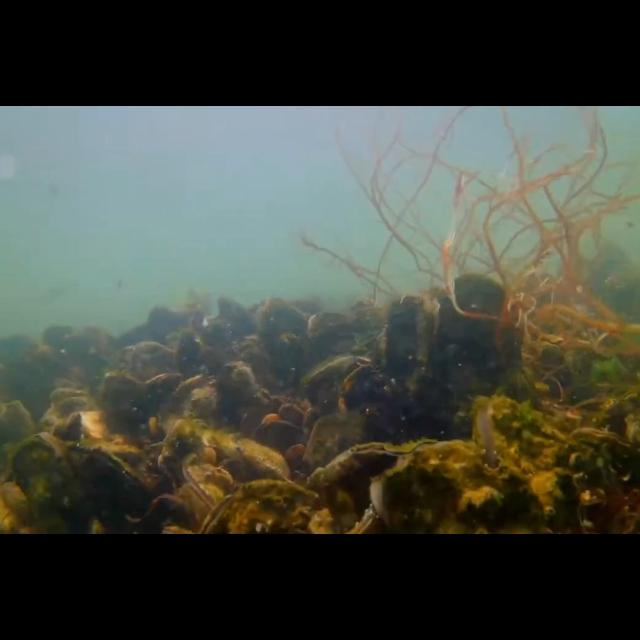Oyster-Closed: (370, 441, 548, 535), (435, 273, 523, 402), (554, 428, 640, 534), (72, 445, 158, 535), (10, 432, 80, 534), (383, 294, 441, 401), (302, 412, 368, 480), (157, 418, 211, 492), (100, 371, 148, 445), (0, 400, 38, 474), (234, 438, 292, 482), (56, 412, 82, 442)
Oyster-Open: (470, 395, 570, 535), (304, 437, 436, 535), (302, 356, 378, 414), (182, 465, 226, 535), (167, 374, 219, 418)
